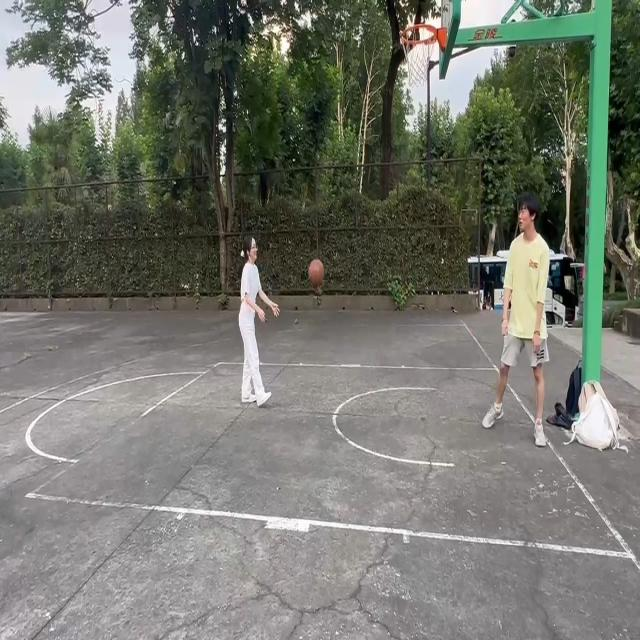basketball: (399, 26, 446, 106)
rim: (309, 261, 325, 287)
